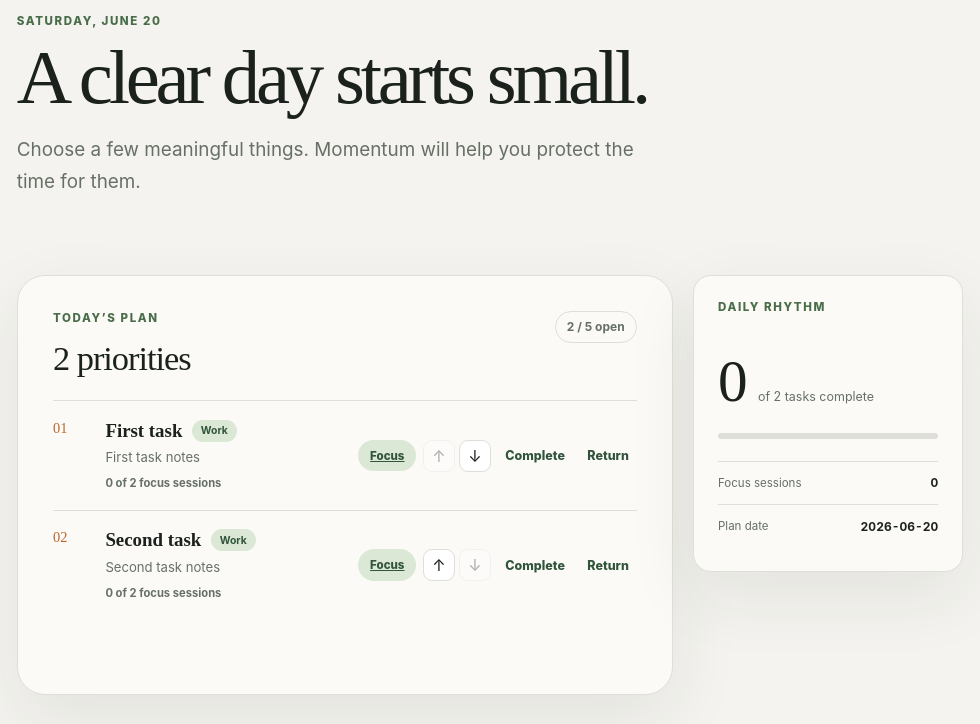
it: Today workspace › reorders with disabled boundaries and preserves order after remount
The width and height of the screenshot is (980, 724).
expect the button named "Move First task up" is disabled: met, box top-left (423, 440), bottom-right (455, 472)
expect the button named "Move Second task down" is disabled: met, box top-left (459, 549), bottom-right (491, 581)
Click the button named "Move Second task up" at [439, 565], box top-left (423, 549), bottom-right (455, 581)
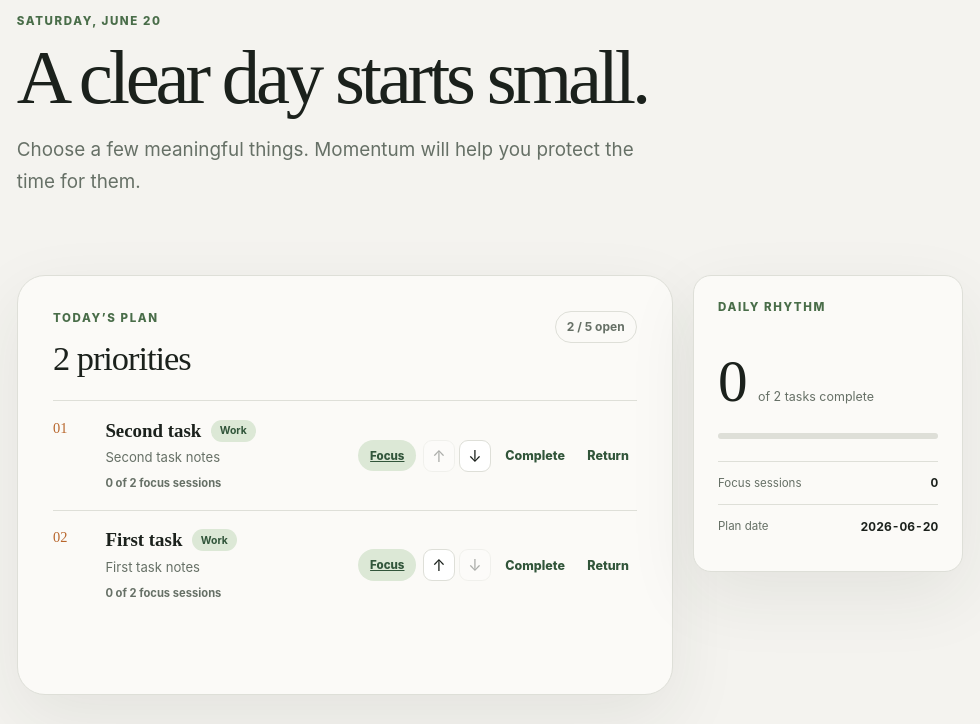
expect the headings read "Second task", "First task", in this order: met, box top-left (105, 420), bottom-right (201, 442); top-left (105, 529), bottom-right (182, 551)
